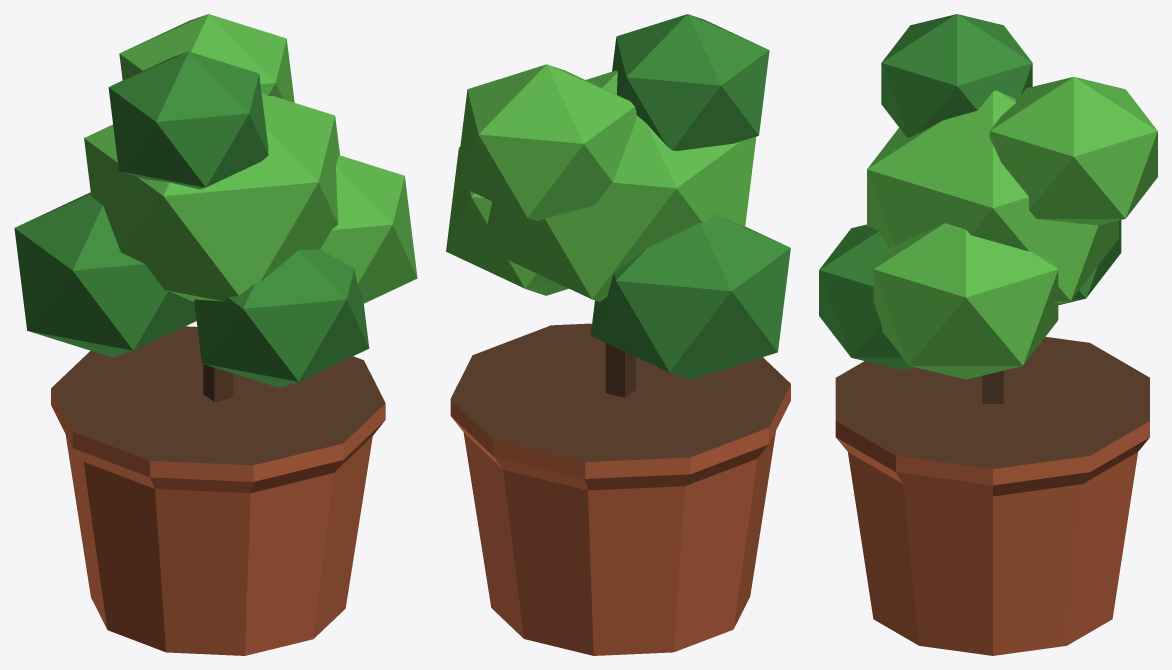
Rendered from FUR_PottedPlant_Frac.fbx.
3 renders of one model, left to right at view 1: azimuth 30°, elevation 25°; view 2: azimuth 150°, elevation 25°; view 3: azimuth 270°, elevation 25°, orthographic. The views are drawn at different scales.
Visible parts, largest first — view 1: FUR_PottedPlant_Frac_3, FUR_PottedPlant_Frac_4, FUR_PottedPlant_Frac_1, FUR_PottedPlant_Frac_2; view 2: FUR_PottedPlant_Frac_3, FUR_PottedPlant_Frac_4, FUR_PottedPlant_Frac_1, FUR_PottedPlant_Frac_2; view 3: FUR_PottedPlant_Frac_1, FUR_PottedPlant_Frac_2, FUR_PottedPlant_Frac_3, FUR_PottedPlant_Frac_4.
Part boxes in pixels (box(x1,y1,x2,y2)): FUR_PottedPlant_Frac_3: box(65, 333, 336, 655); FUR_PottedPlant_Frac_4: box(14, 75, 276, 451); FUR_PottedPlant_Frac_1: box(119, 14, 413, 354); FUR_PottedPlant_Frac_2: box(197, 223, 417, 616); FUR_PottedPlant_Frac_3: box(493, 345, 790, 655); FUR_PottedPlant_Frac_4: box(575, 40, 790, 480); FUR_PottedPlant_Frac_1: box(446, 14, 753, 482); FUR_PottedPlant_Frac_2: box(453, 286, 643, 608); FUR_PottedPlant_Frac_1: box(867, 14, 1157, 473); FUR_PottedPlant_Frac_2: box(819, 194, 1132, 655); FUR_PottedPlant_Frac_3: box(835, 353, 1149, 643); FUR_PottedPlant_Frac_4: box(848, 21, 1144, 374).
Bounding box in the file's own units: 2.18 × 3.53 × 1.89.
